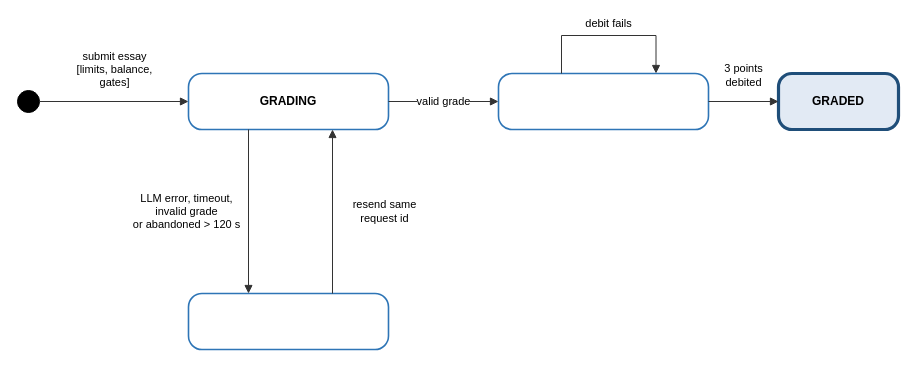
This 918x368 diagram has some shape labels left out. The shapes that lost their labels are listed below. From the top down, each one's centre as x and y in pixels, then its label:
At (x=603, y=101): "PAYMENT_PENDING".
At (x=288, y=321): "FAILED".
